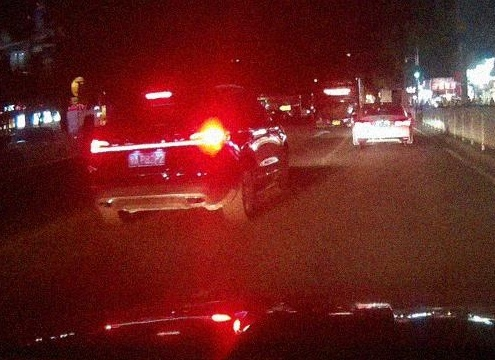L_light: (90, 139, 134, 153), (355, 121, 371, 126)
R_light: (187, 127, 230, 146), (394, 119, 409, 126)
T_light: (144, 91, 174, 99), (378, 105, 389, 108)
night-no: (353, 102, 412, 147)
night-right: (87, 87, 250, 229)
